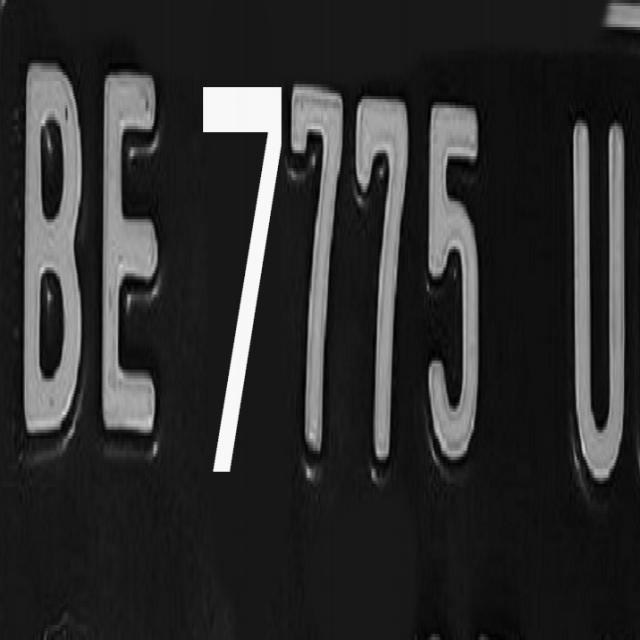5: (414, 98, 514, 480)
7: (196, 78, 286, 480), (286, 70, 348, 480), (350, 80, 404, 482)
B: (15, 58, 94, 456)
E: (91, 66, 177, 466)
U: (555, 103, 640, 494)
